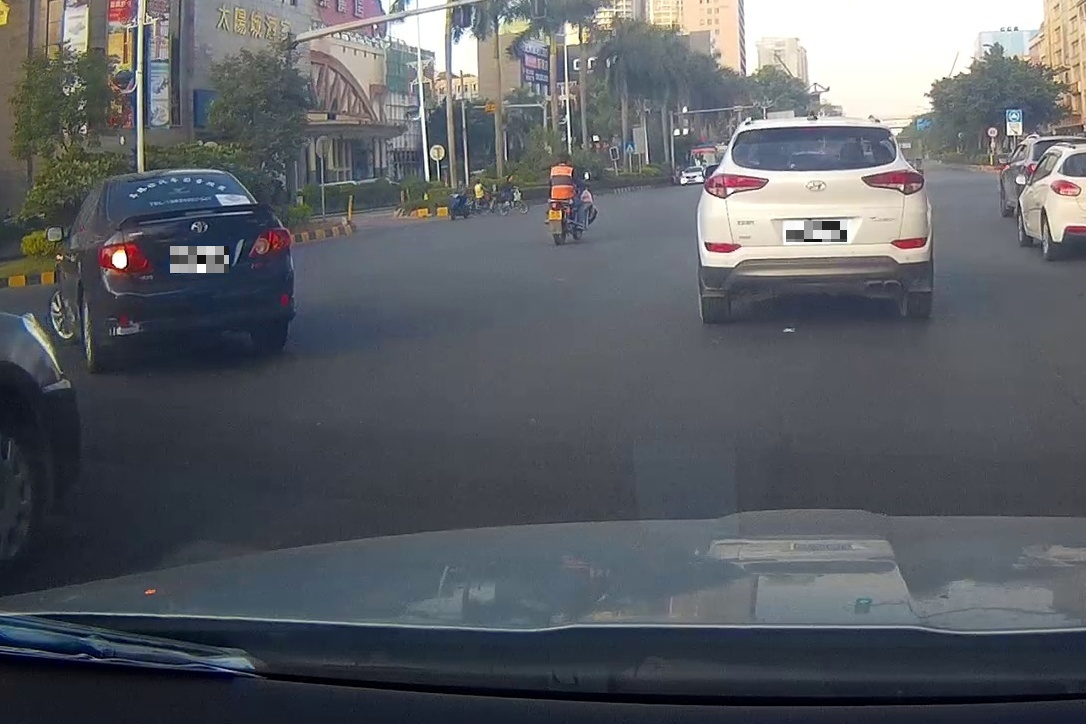L_light: (98, 241, 155, 274), (703, 173, 770, 199)
R_light: (861, 169, 925, 196), (248, 227, 292, 258)
T_light: (161, 174, 188, 181), (797, 127, 827, 133)
day-left: (97, 168, 295, 372)
day-no: (695, 116, 931, 324)
plate_1: (170, 246, 229, 273)
plate_2: (786, 221, 847, 242)
